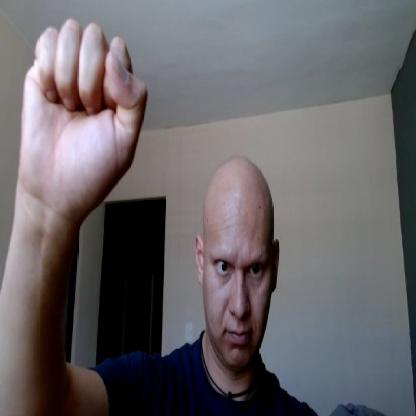S: (19, 14, 148, 208)
